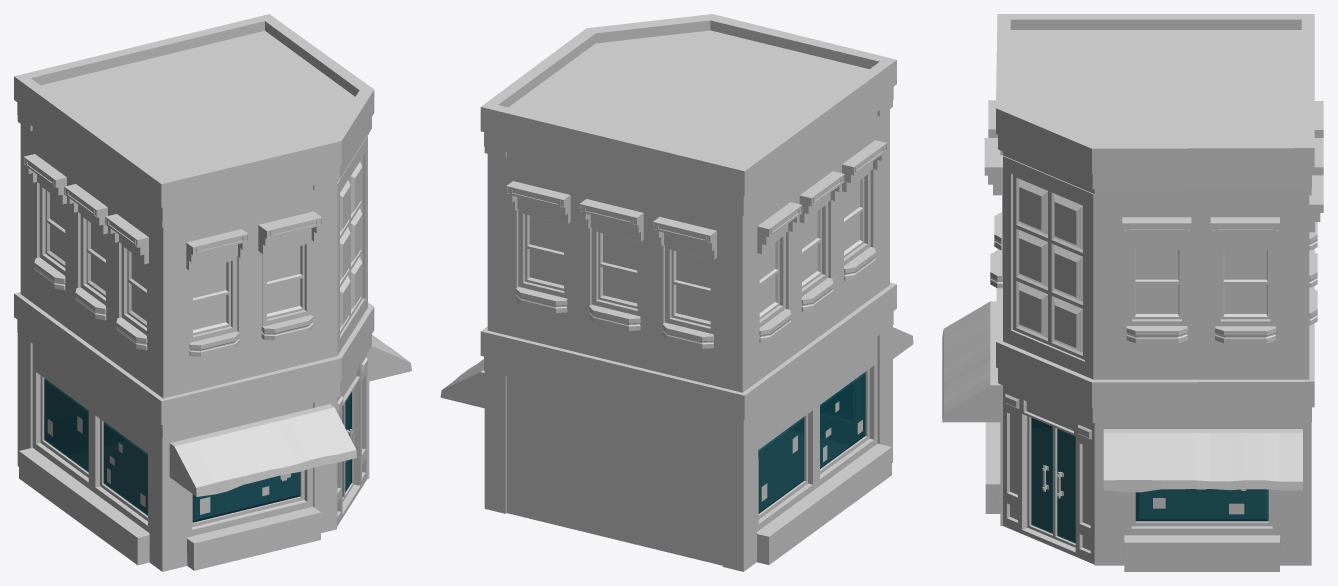
The model's file is shop_02_medium.fbx.
3 views of the same model, side by side, from view 1: azimuth 30°, elevation 25°; view 2: azimuth 150°, elevation 25°; view 3: azimuth 270°, elevation 25° (orthographic). The views are drawn at different scales.
Parts seen in each view (by area): view 1: shop_02_medium, shop_02_medium_glass; view 2: shop_02_medium, shop_02_medium_glass; view 3: shop_02_medium, shop_02_medium_glass.
Boxes of the visible parts, x1,y1,x2,y2 form: shop_02_medium: (14, 14, 411, 571); shop_02_medium_glass: (44, 378, 351, 522); shop_02_medium: (440, 14, 913, 571); shop_02_medium_glass: (758, 372, 865, 513); shop_02_medium: (942, 14, 1323, 571); shop_02_medium_glass: (1031, 418, 1268, 543).
Bounding box in the file's own units: 752 × 905 × 746.
